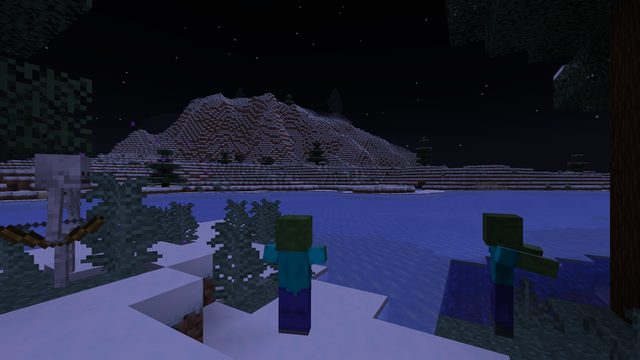squelettes: (31, 153, 96, 293)
zombies: (269, 216, 319, 353), (480, 214, 525, 343)
